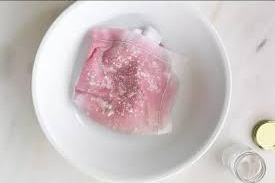wine: (78, 38, 176, 117)
